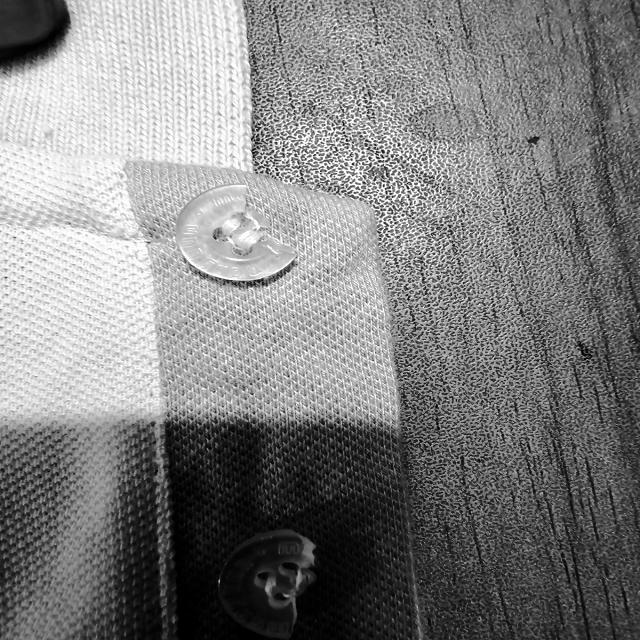Broken_button: (203, 520, 355, 638), (163, 182, 304, 290)
